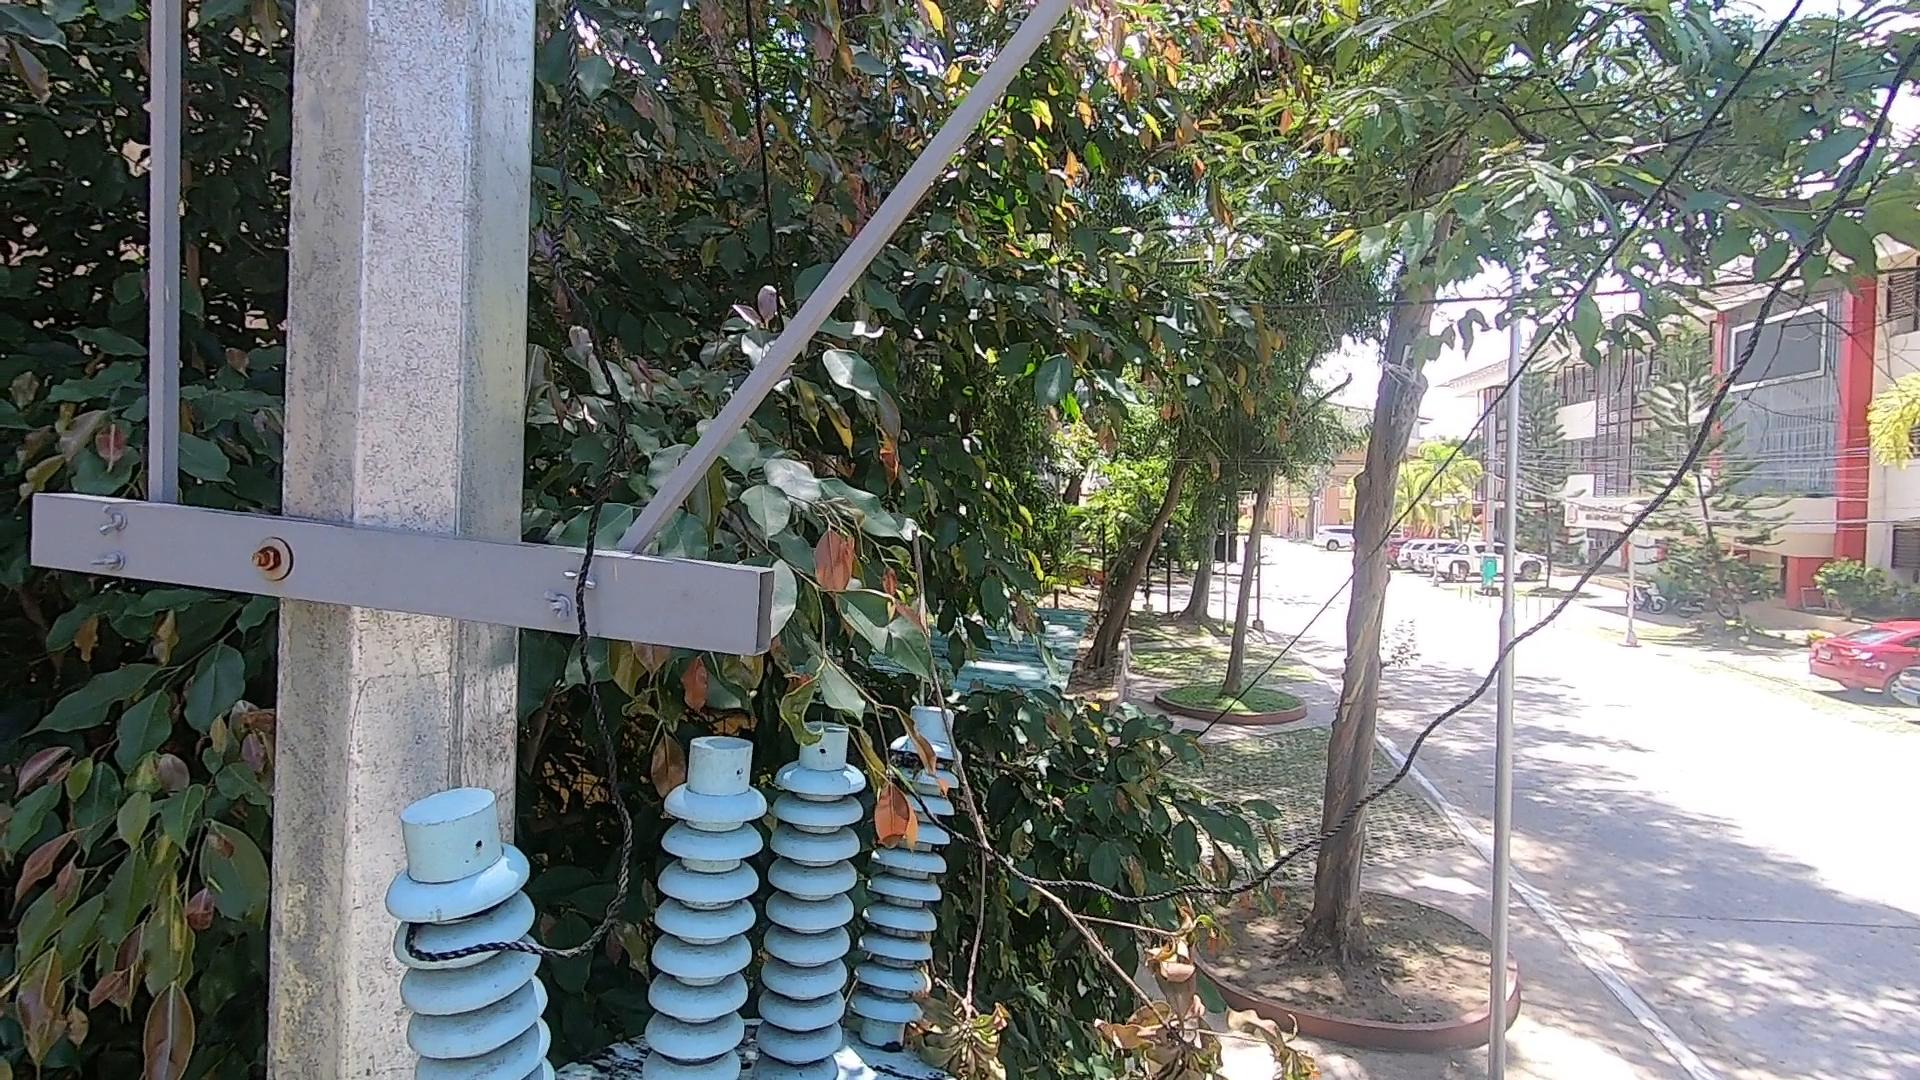branch with leaves: (906, 516, 1308, 1080)
